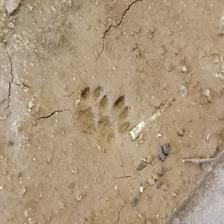cat: (95, 95, 135, 143)
